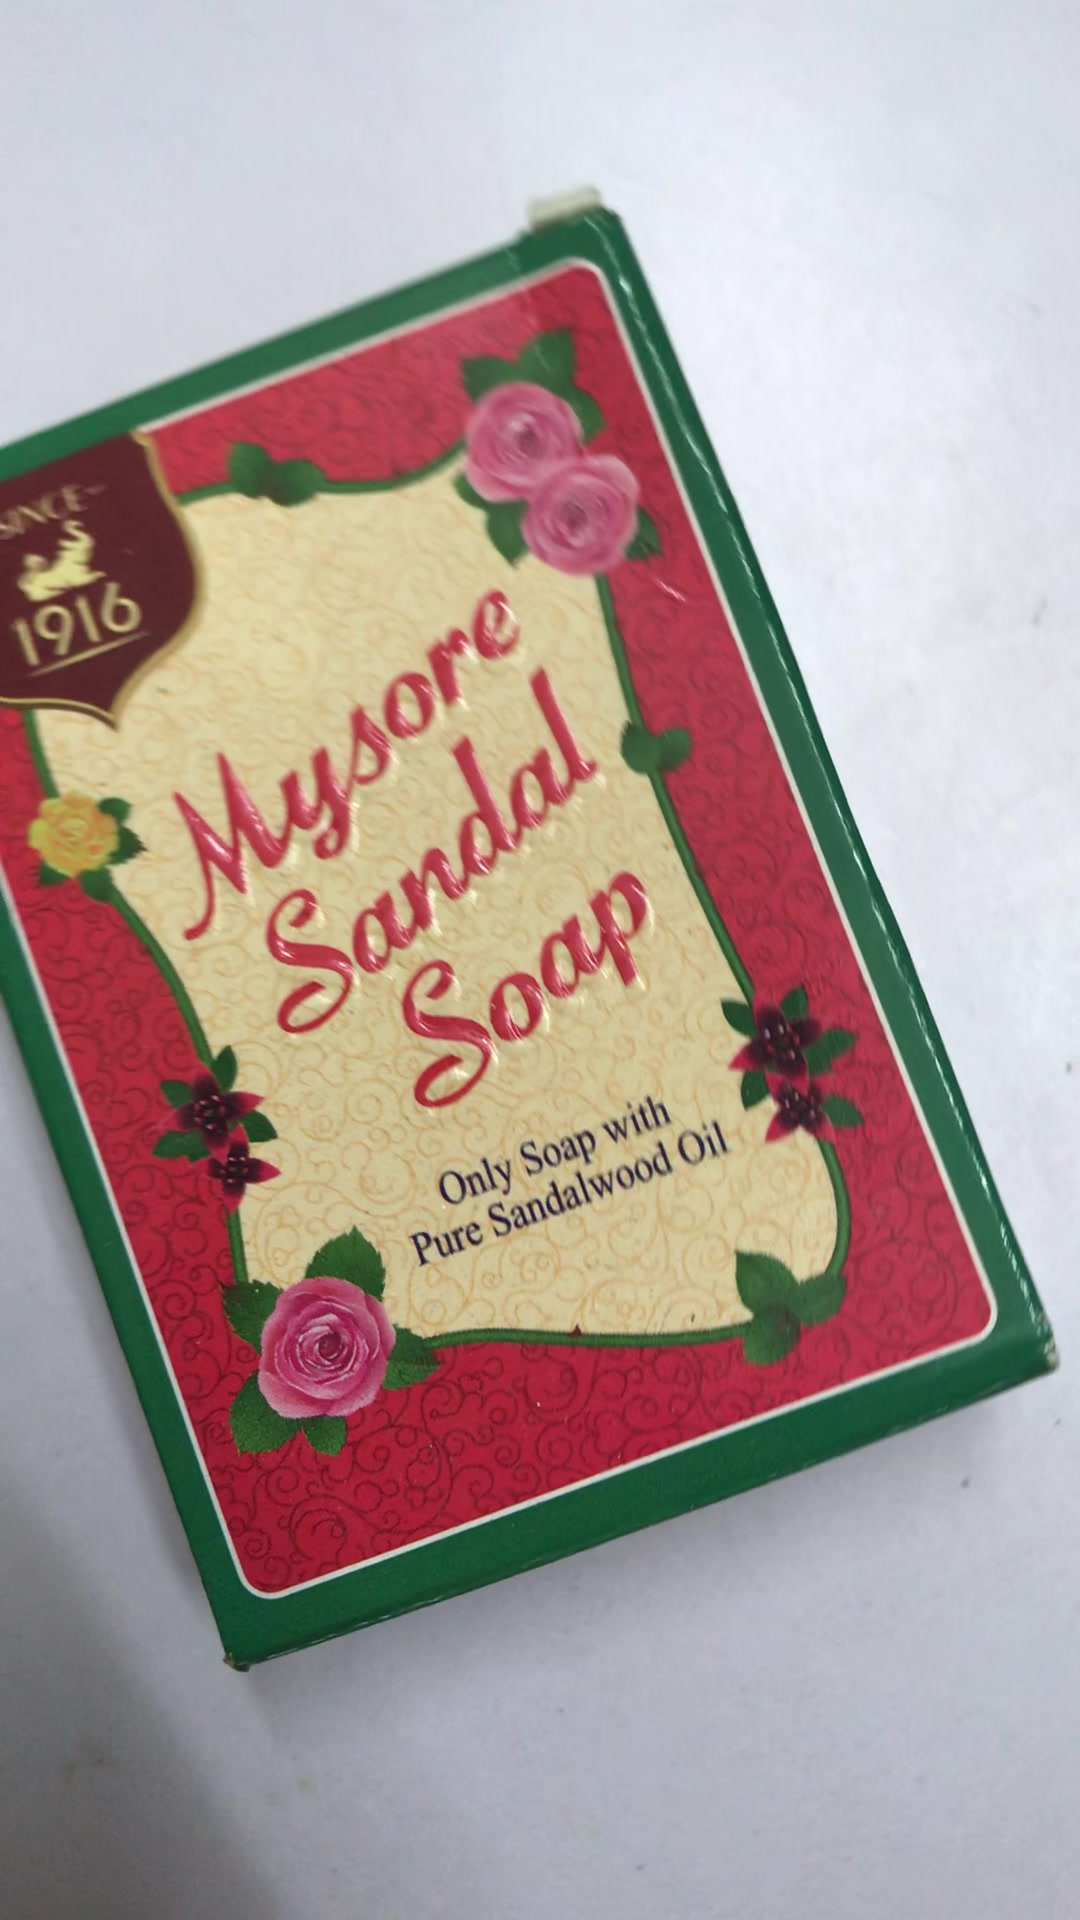mysore sandal soap: (5, 211, 1059, 1671)
